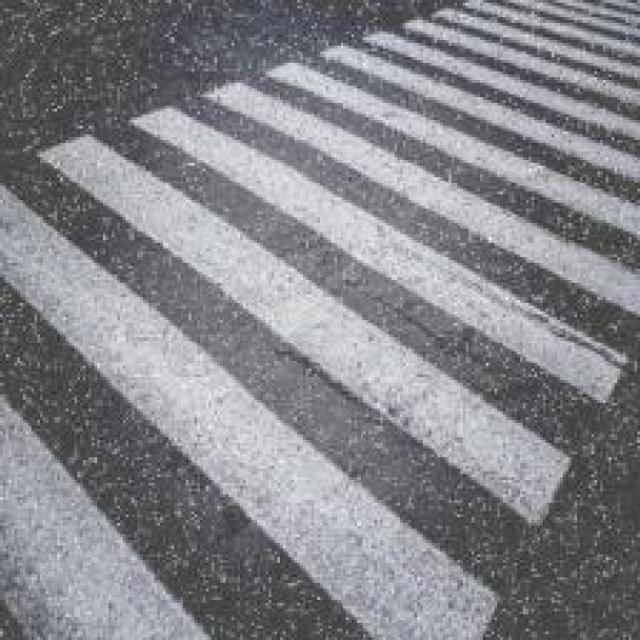obstacle: (1, 0, 640, 640)
